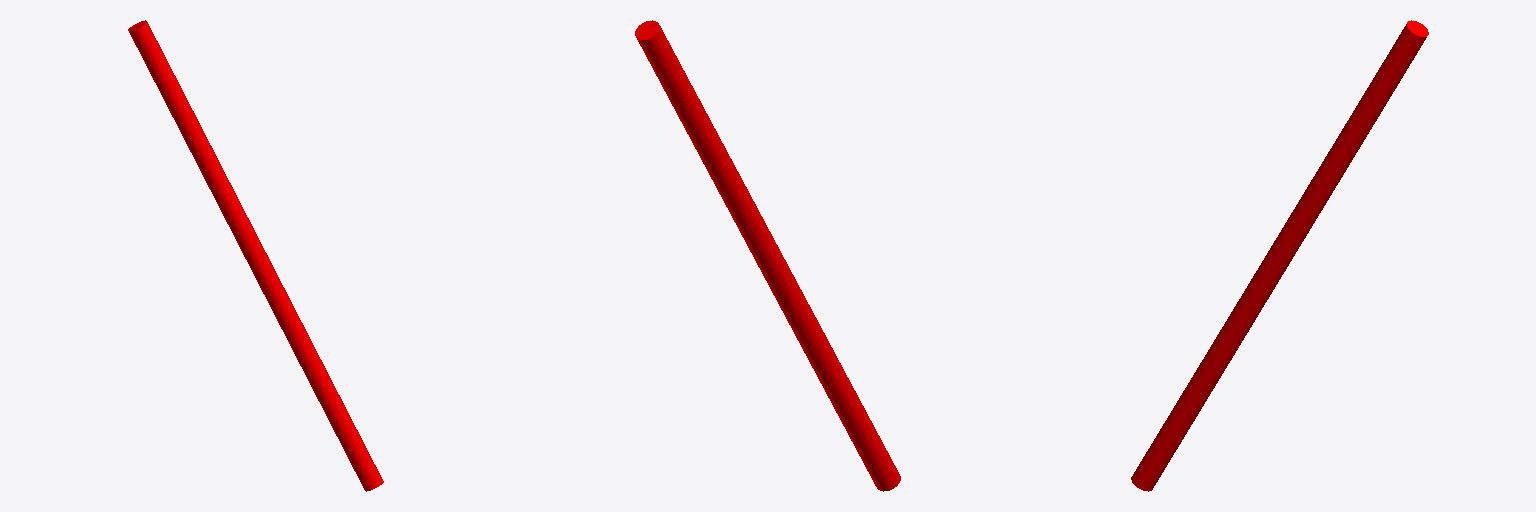
URDF robot description (tree_32.urdf):
<?xml version='1.0' encoding='utf-8'?>
<robot name="tree_32.urdf">
  <link name="branch_0">
    <inertial>
      <origin xyz="0.0 0.0 0.0" rpy="0.0 -0.0 0.0" />
      <mass value="1.0" />
      <inertia ixx="1.0" ixy="0.0" ixz="0.0" iyy="1.0" iyz="0.0" izz="1.0" />
    </inertial>
    <visual name="branch_0_visual">
      <geometry>
        <cylinder radius="0.06663407533746385" length="3.3655698929654334" />
      </geometry>
      <material name="semantic_material" />
      <origin xyz="0.2627104235762217 0.7485910549822442 1.484034986735088" rpy="0.0 0.4909354184721493 1.2332844807151735" />
    </visual>
    <collision name="branch_0_collision">
      <geometry>
        <cylinder radius="0.06663407533746385" length="3.3655698929654334" />
      </geometry>
      <origin xyz="0.2627104235762217 0.7485910549822442 1.484034986735088" rpy="0.0 0.4909354184721493 1.2332844807151735" />
    </collision>
  </link>
  <material name="semantic_material">
    <color rgba="1. 0. 0. 1." />
  </material>
</robot>

--- What the picture shows (computed from the rendered views, not written in the file) ---
3 views of the same robot in one strip: view 1: azimuth 90°, elevation 25°; view 2: azimuth 150°, elevation 25°; view 3: azimuth 270°, elevation 25° (orthographic).
Model tree_32.urdf with 1 links and 0 joints (none), rooted at branch_0, posed every joint at zero.
Visible links, largest first — view 1: branch_0; view 2: branch_0; view 3: branch_0.
Link boxes in pixels (box(x1,y1,x2,y2)): branch_0: box(128, 20, 383, 491); branch_0: box(635, 20, 900, 491); branch_0: box(1131, 20, 1428, 491).
Bounding box of the posed robot: 0.6565 × 1.62 × 3.03 m (x, y, z).
Geometry: primitives only (box / cylinder / sphere), no mesh files.